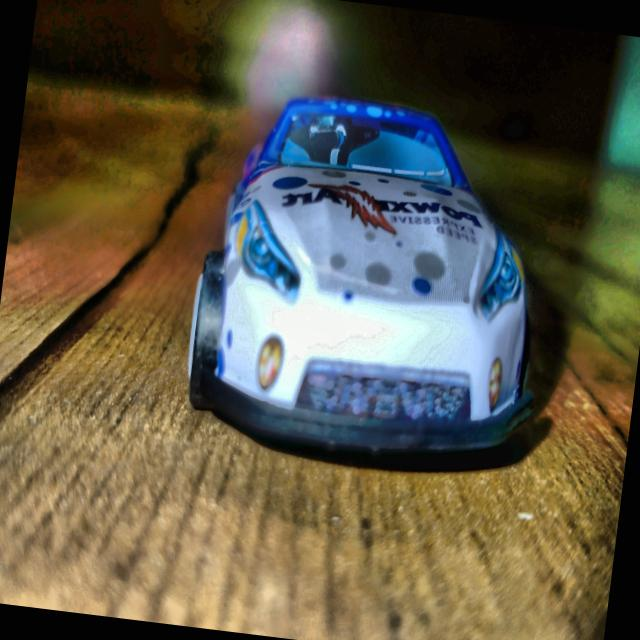Car: (184, 70, 554, 494)
